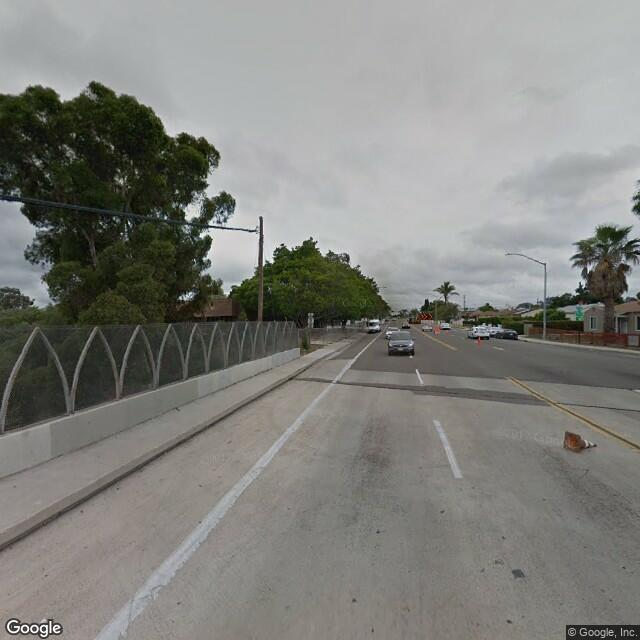litter: (173, 404, 182, 410)
